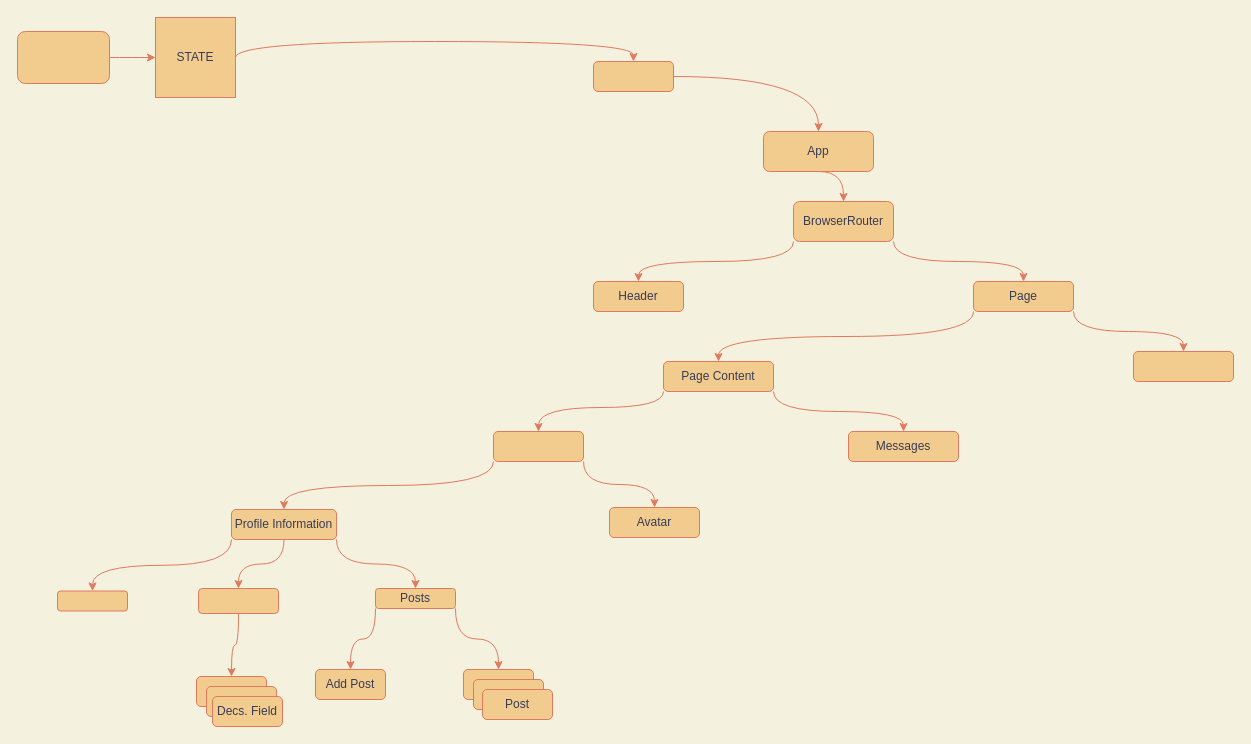
This 1251x744 diagram has some shape labels left out. The shapes that lost their labels are listed below. From the top down, each one's box as (x1, y1, x2, y2) in pixels, then its label:
(16, 30, 110, 84): state.js
(592, 60, 674, 92): index.js
(1132, 350, 1234, 382): Page Navigation
(492, 430, 584, 462): Profile
(56, 590, 128, 611): Name
(198, 588, 278, 614): Description
